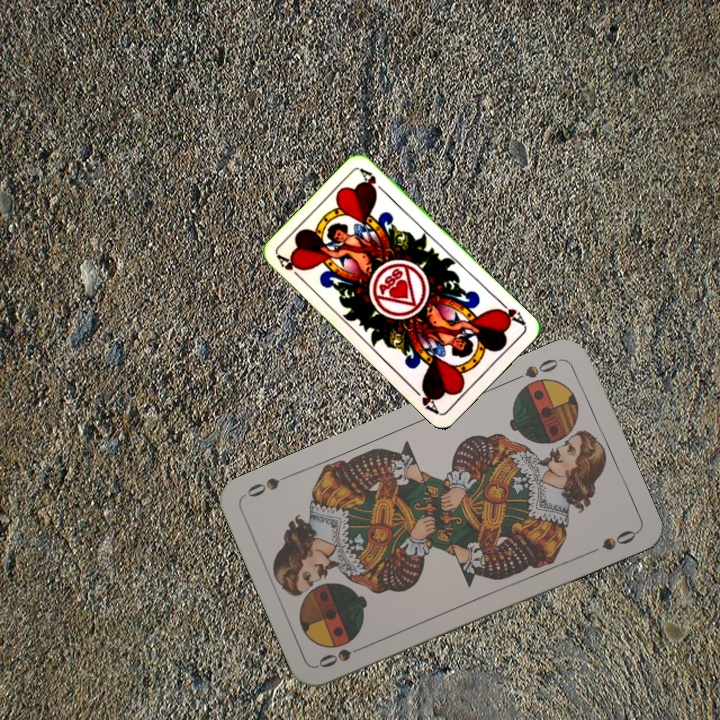HA: (492, 296, 528, 328), (273, 251, 307, 284)
SO: (314, 640, 371, 671), (508, 354, 565, 384)
